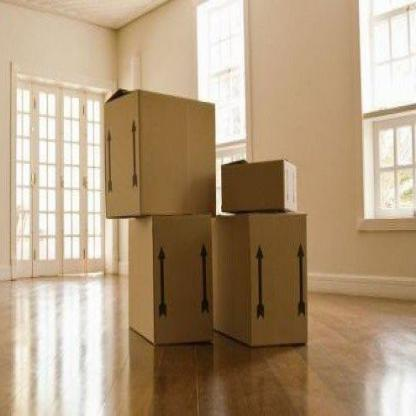package: (103, 85, 217, 223), (210, 203, 308, 352), (125, 214, 212, 350), (220, 157, 299, 219)
